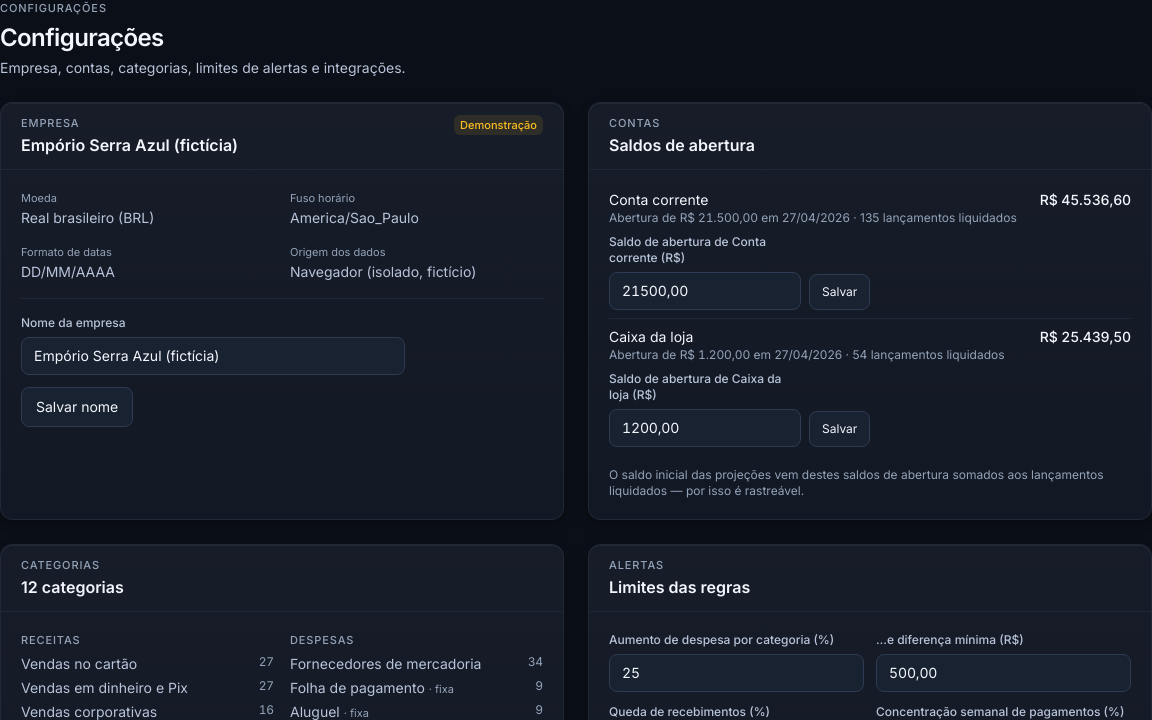
configurações da empresa › mostra erro para saldo inválido
Replace the text in the field labelled "Saldo de abertura de Conta corrente (R$)" with "abc" at (705, 291), box [609,272,801,310]
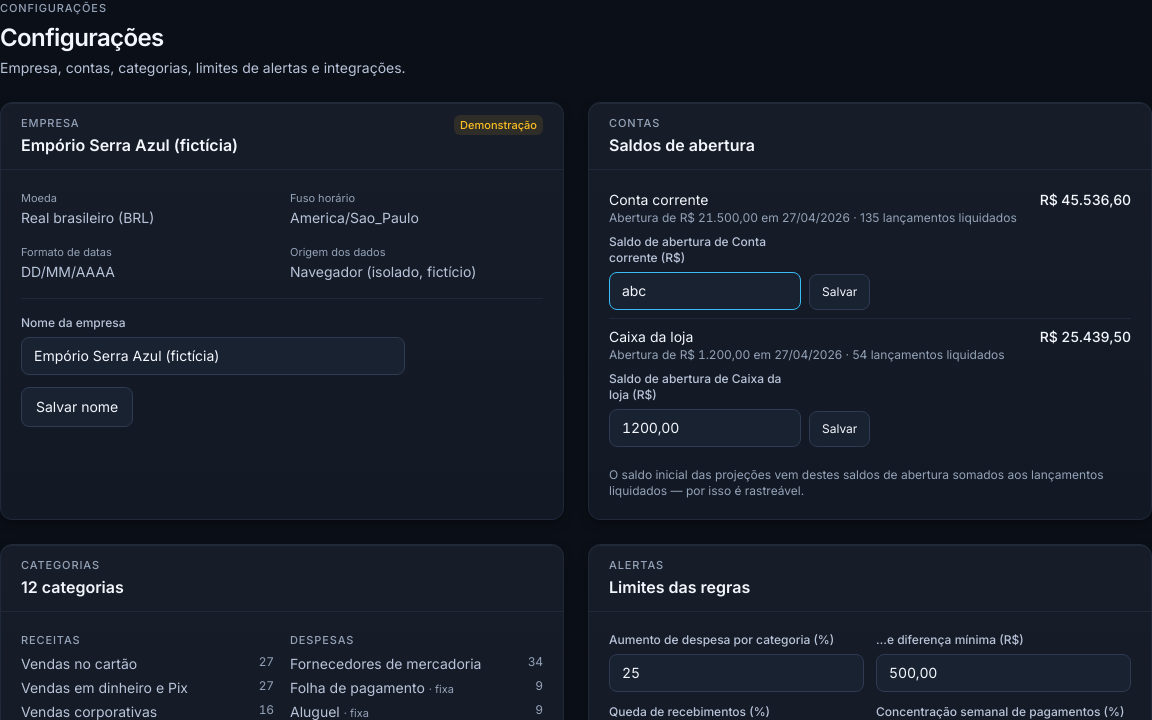
Click the button "Salvar" below "Saldo de abertura de Conta corrente (R$)".
click(840, 292)  # box [809,274,870,310]
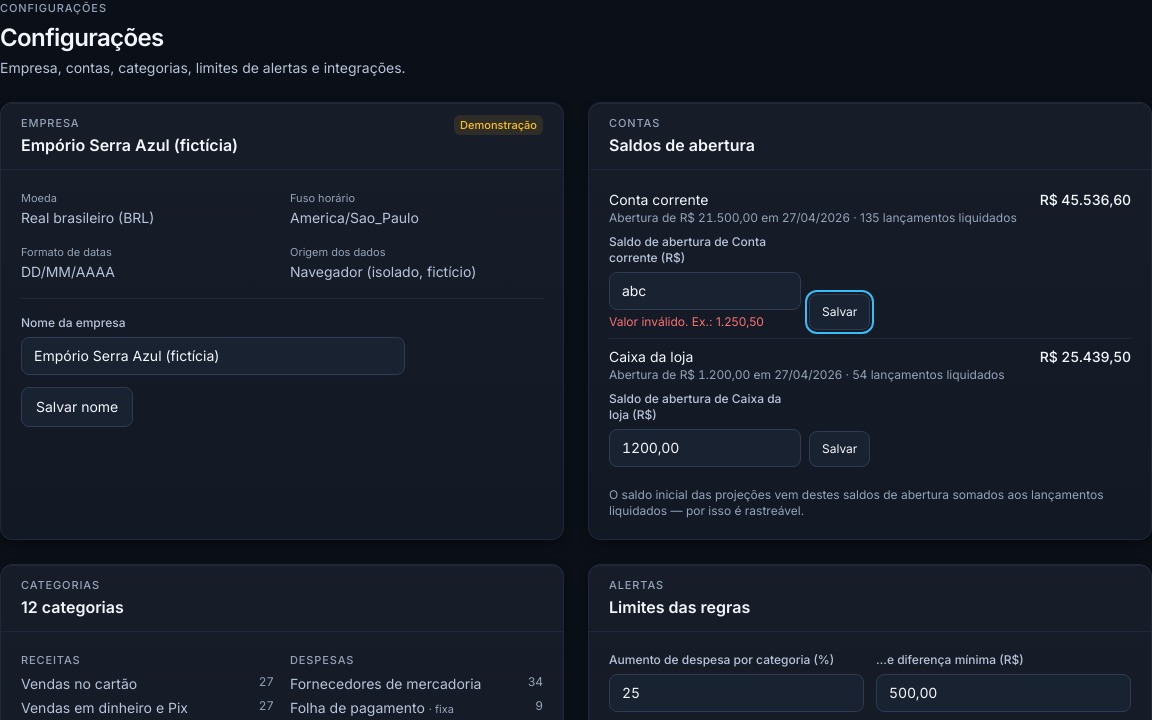
Expected: the text "Valor inválido. Ex.: 1.250,50" is shown, [609,314,764,329]
